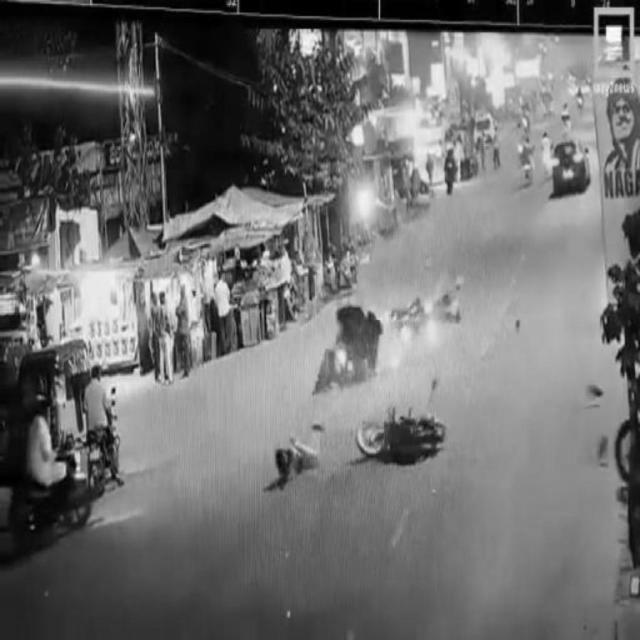person: (154, 288, 176, 388)
vehicle: (23, 339, 116, 452), (319, 303, 381, 391), (82, 363, 124, 489), (359, 411, 449, 462), (553, 142, 590, 194)
